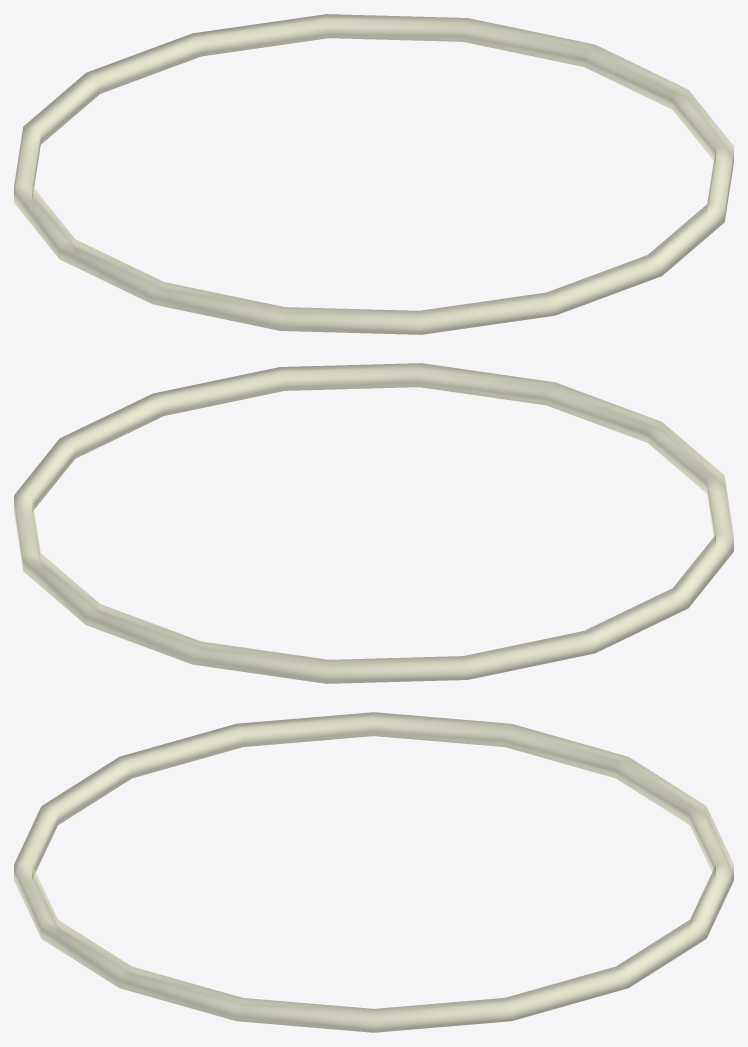
Rendered from obj_selector.fbx.
The picture shows the model from 3 angles, top to bottom: view 1: azimuth 30°, elevation 25°; view 2: azimuth 150°, elevation 25°; view 3: azimuth 270°, elevation 25°; orthographic projection.
Visible parts, largest first — view 1: pPipe1; view 2: pPipe1; view 3: pPipe1.
Boxes of the visible parts, box(x1,y1,x2,y2) form: pPipe1: box(14, 14, 733, 334); pPipe1: box(14, 363, 733, 683); pPipe1: box(14, 712, 733, 1032).
Size of the model in its own units: 1 by 0.025 by 1.
